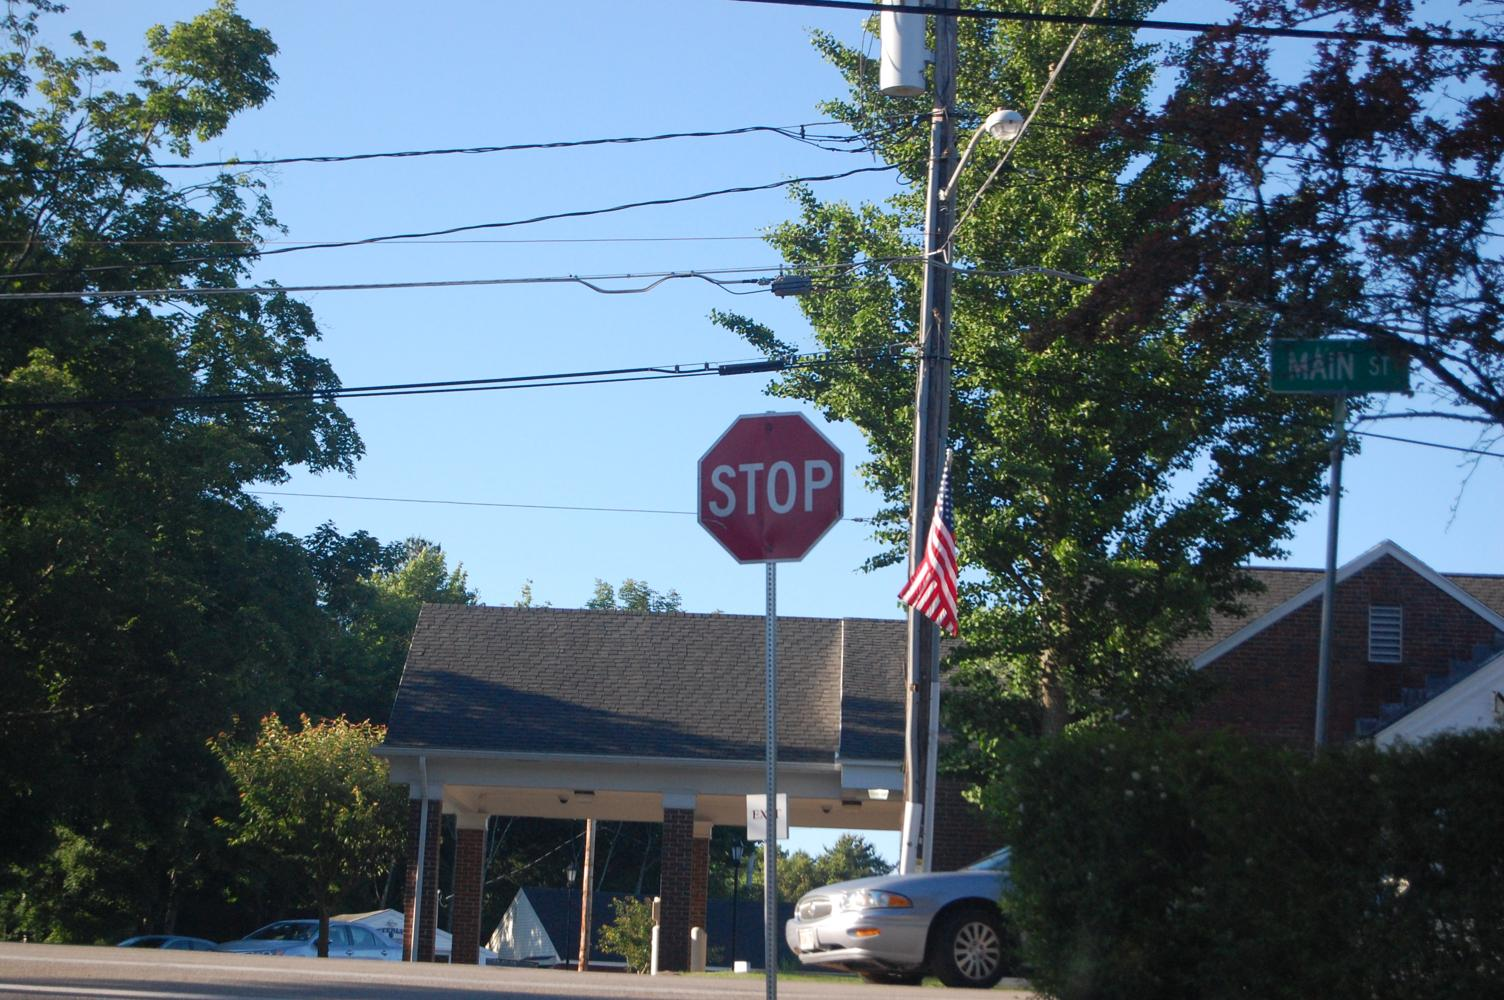car: (797, 839, 1081, 983)
stop: (693, 403, 866, 557)
